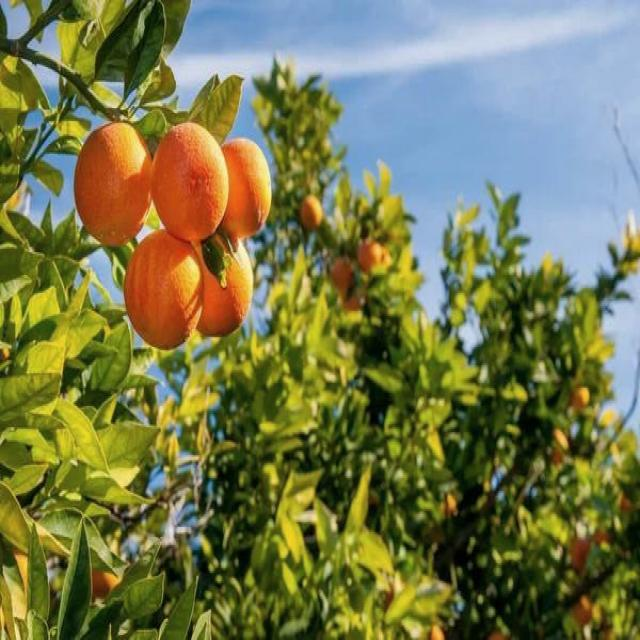Jeruk Sudah Matang: (174, 215, 255, 338), (74, 119, 152, 244), (122, 232, 204, 348), (152, 121, 230, 242), (206, 138, 273, 242), (302, 195, 324, 228)
